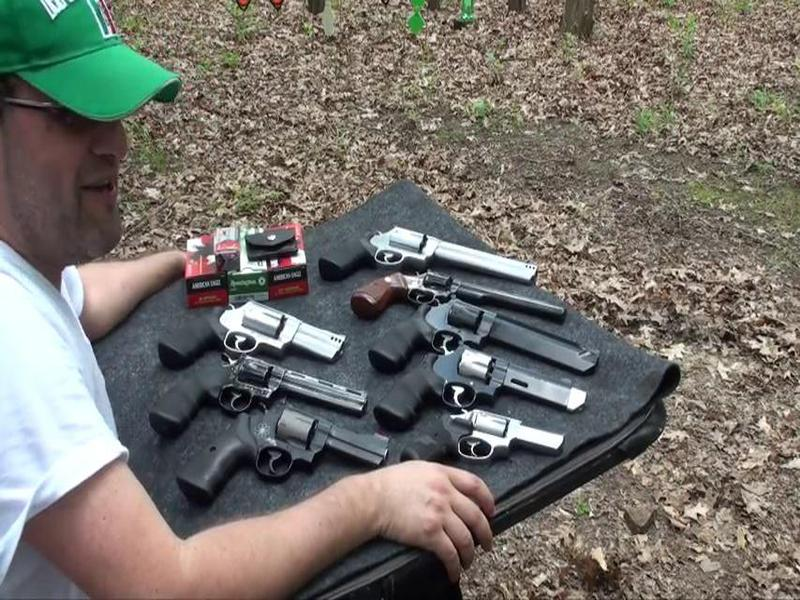Revolver: (389, 408, 595, 484)
